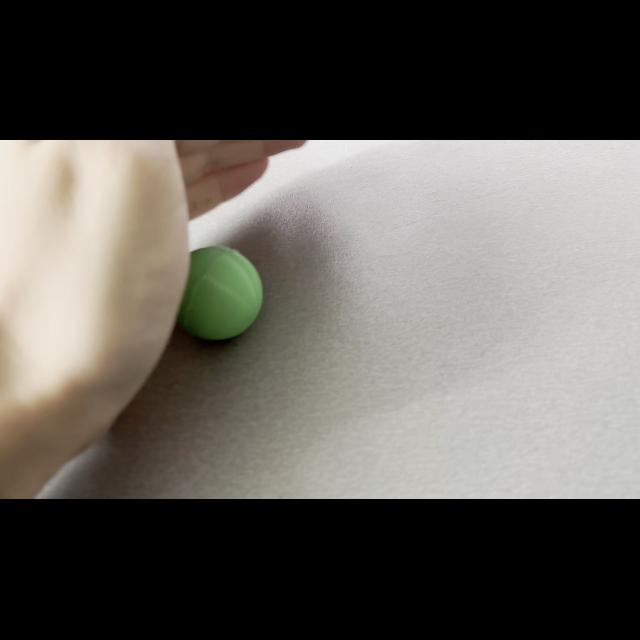objects: (175, 239, 271, 347)
